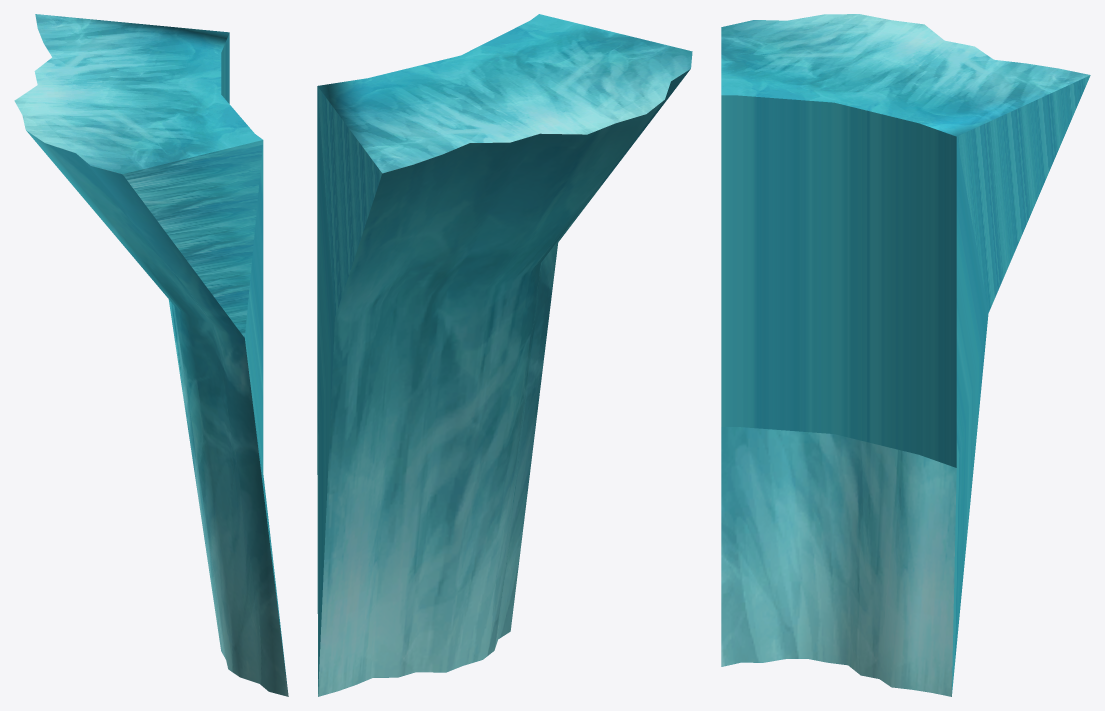
The model's file is ic_arthas_iceshard05.obj.
3 renders of one model, left to right at view 1: azimuth 30°, elevation 25°; view 2: azimuth 150°, elevation 25°; view 3: azimuth 270°, elevation 25°, orthographic. The views are drawn at different scales.
Visible parts, largest first — view 1: IC_arthas_iceshard05; view 2: IC_arthas_iceshard05; view 3: IC_arthas_iceshard05.
Boxes of the visible parts, <box> form: IC_arthas_iceshard05: <box>14,14,288,696</box>; IC_arthas_iceshard05: <box>317,14,692,696</box>; IC_arthas_iceshard05: <box>721,14,1090,696</box>.
Size of the model in its own units: 39.08 by 82.47 by 49.37.
